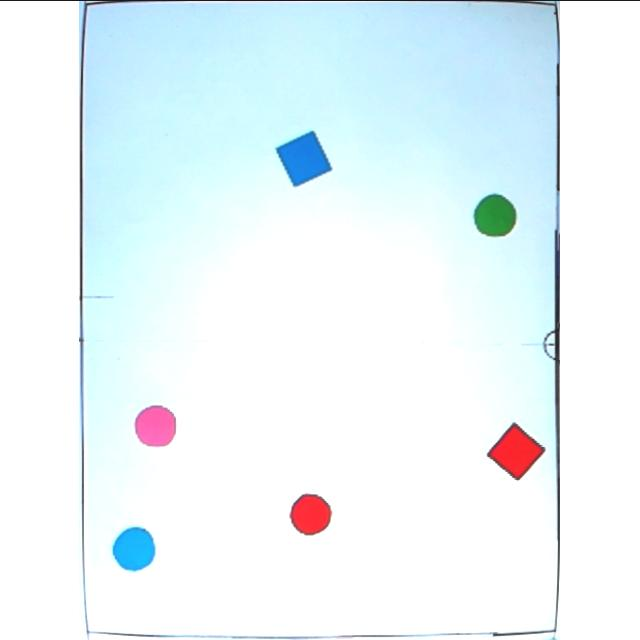blueCircle: (112, 524, 158, 572)
blueSquare: (277, 130, 335, 187)
greenCircle: (474, 193, 518, 237)
pinkCircle: (135, 402, 179, 448)
redCircle: (290, 492, 336, 536)
redSquare: (487, 420, 549, 480)
